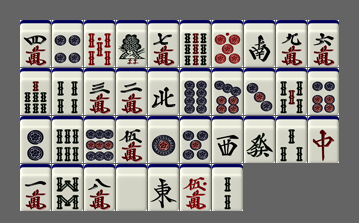0m: (180, 164, 211, 211)
0p: (212, 20, 243, 67)
0s: (84, 20, 115, 67)
1m: (20, 164, 51, 211)
1p: (148, 116, 179, 163)
1s: (116, 20, 147, 67)
1z: (148, 164, 179, 211)
2m: (116, 68, 147, 115)
2p: (20, 116, 51, 163)
2s: (212, 164, 243, 211)
2z: (244, 20, 275, 67)
3m: (84, 68, 115, 115)
3p: (244, 68, 275, 115)
3s: (276, 116, 307, 163)
3z: (212, 116, 243, 163)
4m: (20, 20, 51, 67)
4p: (52, 20, 83, 67)
4s: (52, 68, 83, 115)
4z: (148, 68, 179, 115)
5m: (116, 116, 147, 163)
5p: (180, 116, 211, 163)
5s: (276, 68, 307, 115)
5z: (116, 164, 147, 211)
6m: (308, 20, 339, 67)
6p: (308, 68, 339, 115)
6s: (52, 116, 83, 163)
6z: (244, 116, 275, 163)
7m: (148, 20, 179, 67)
7p: (212, 68, 243, 115)
7s: (20, 68, 51, 115)
7z: (308, 116, 339, 163)
8m: (84, 164, 115, 211)
8p: (180, 68, 211, 115)
8s: (52, 164, 83, 211)
9m: (276, 20, 307, 67)
9p: (84, 116, 115, 163)
9s: (180, 20, 211, 67)
